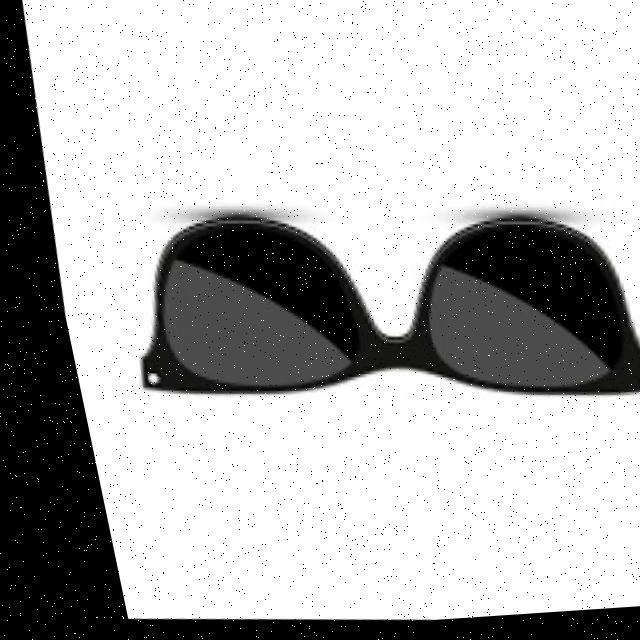gozluk: (70, 165, 640, 455)
